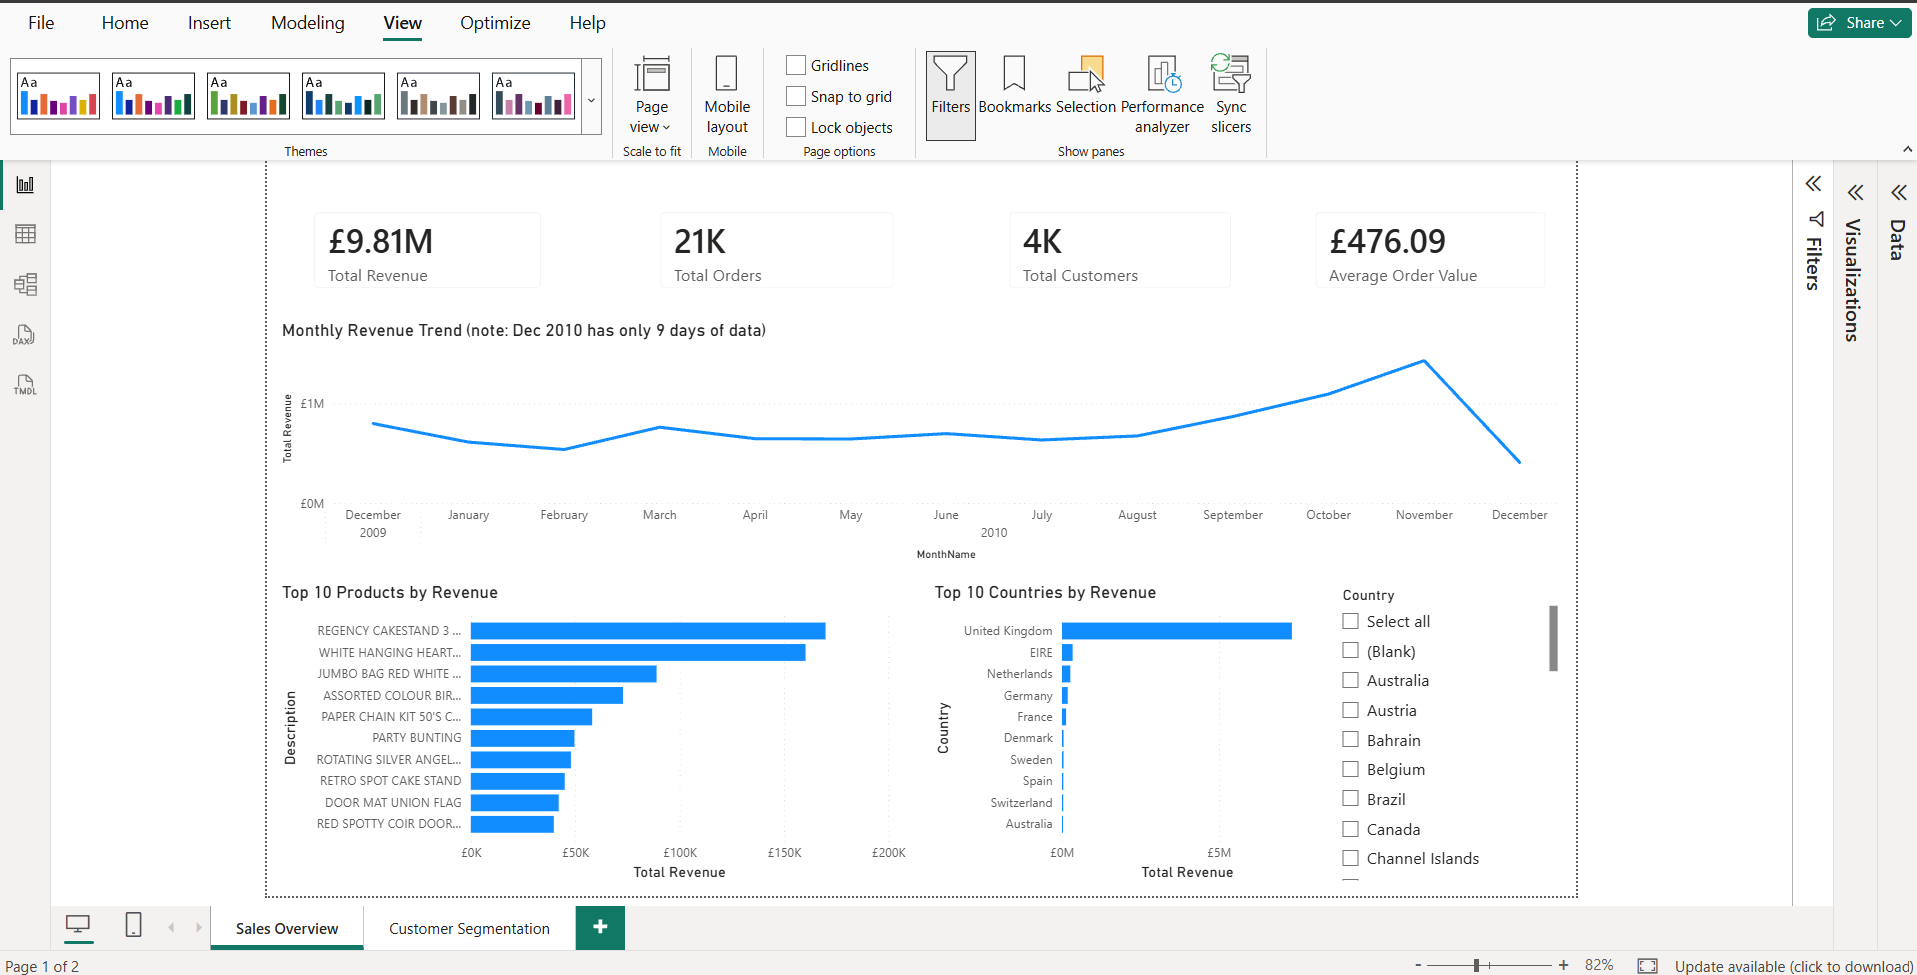

The page's visual inventory and layout, read from the dashboard file:
{"tool":"powerbi","page":{"name":"Sales Overview","canvas":[1280,720],"ordinal":0},"visuals":[{"type":"cardVisual","fields":{"Data":["fact_sales.Total Revenue"]},"box":[28.8,34.3,256.6,108.4],"z":0},{"type":"cardVisual","fields":{"Data":["fact_sales.Total Orders"]},"box":[367.8,34.3,262.1,108.4],"z":1000},{"type":"cardVisual","fields":{"Data":["fact_sales.Total Customers"]},"box":[709.4,34.3,251.1,108.4],"z":2000},{"type":"cardVisual","fields":{"Data":["fact_sales.Average Order Value"]},"box":[1008.6,34.3,259.3,108.4],"z":3000},{"type":"lineChart","title":"Monthly Revenue Trend (note: Dec 2010 has only 9 days of data)","fields":{"Y":["fact_sales.Total Revenue"],"Category":["dim_date.Year","dim_date.MonthName"]},"box":[9.6,156.4,1258.3,240.1],"z":4000},{"type":"clusteredBarChart","title":"Top 10 Products by Revenue","fields":{"Category":["dim_product.Description"],"Y":["fact_sales.Total Revenue"]},"box":[9.6,411.7,620.2,297.8],"z":4001},{"type":"clusteredBarChart","title":"Top 10 Countries by Revenue","fields":{"Y":["fact_sales.Total Revenue"],"Category":["dim_customer.Country"]},"box":[647.7,411.7,392.5,297.8],"z":4002},{"type":"slicer","fields":{"Values":["dim_customer.Country"]},"box":[1040,412,228,298],"z":4003}]}

Visuals, with their boxes on the page's 1280x720 design canvas (x1, y1, x2, y2). These are canvas units, not pixel positions in the 1917x975 screenshot, which may show the page scaled, cropped or inside an application window:
cardVisual - fact_sales.Total Revenue: [29, 34, 285, 143]
cardVisual - fact_sales.Total Orders: [368, 34, 630, 143]
cardVisual - fact_sales.Total Customers: [709, 34, 960, 143]
cardVisual - fact_sales.Average Order Value: [1009, 34, 1268, 143]
"Monthly Revenue Trend (note: Dec 2010 has only 9 days of data)" lineChart: [10, 156, 1268, 396]
"Top 10 Products by Revenue" clusteredBarChart: [10, 412, 630, 710]
"Top 10 Countries by Revenue" clusteredBarChart: [648, 412, 1040, 710]
slicer - dim_customer.Country: [1040, 412, 1268, 710]
